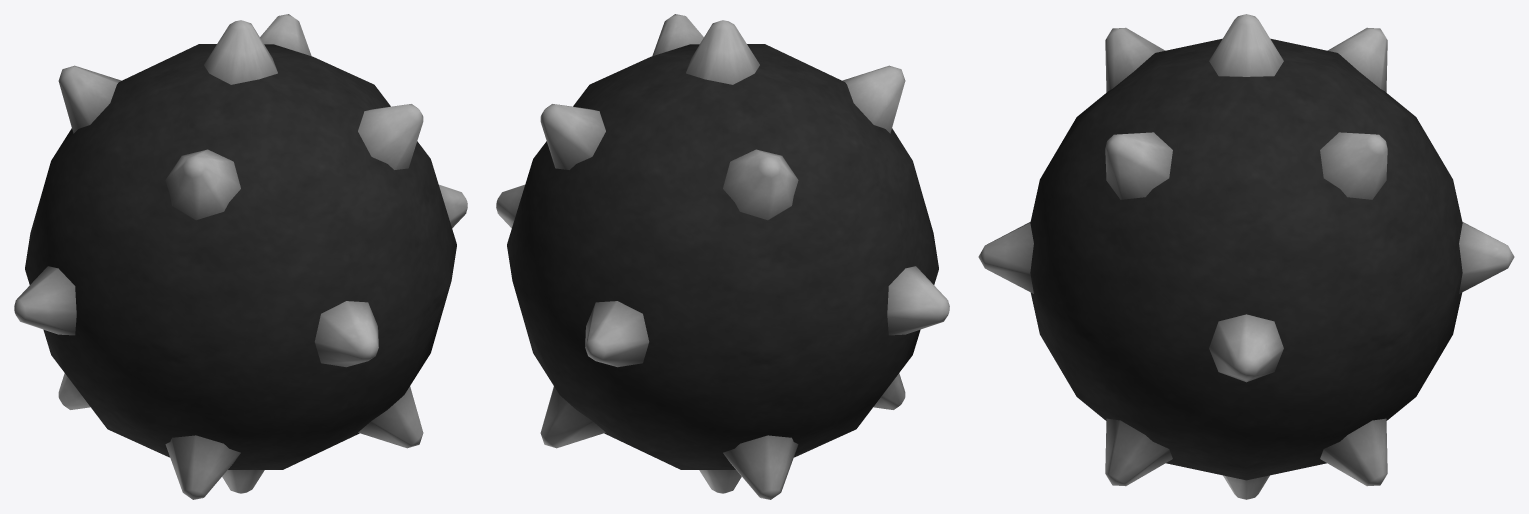
The model's file is SpikeBall.FBX.
3 views of the same model, side by side, from view 1: azimuth 30°, elevation 25°; view 2: azimuth 150°, elevation 25°; view 3: azimuth 270°, elevation 25° (orthographic). The views are drawn at different scales.
Visible parts, largest first — view 1: SpikeBall; view 2: SpikeBall; view 3: SpikeBall.
Part boxes in pixels (x1,y1,x2,y2): SpikeBall: (14, 14, 467, 499); SpikeBall: (496, 14, 949, 499); SpikeBall: (978, 14, 1514, 499).
Bounding box in the file's own units: 95.92 × 95.92 × 95.92.
